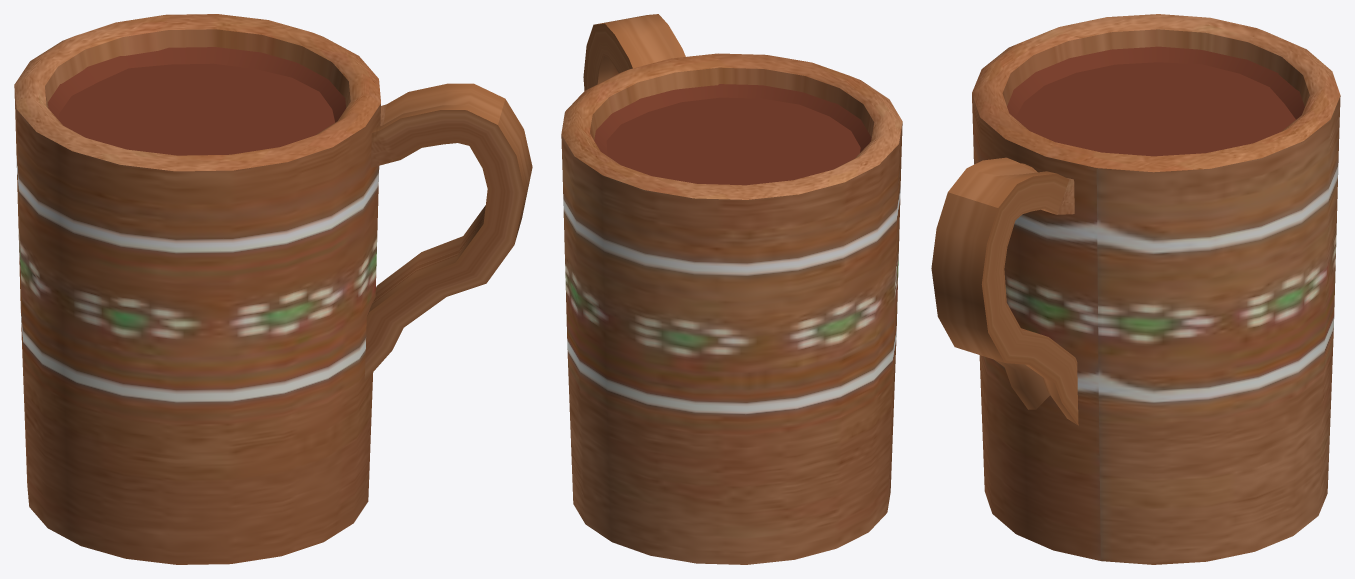
File: chocolate.glb
The picture shows the model from 3 angles, left to right: view 1: azimuth 30°, elevation 25°; view 2: azimuth 150°, elevation 25°; view 3: azimuth 270°, elevation 25°; orthographic projection. The views are drawn at different scales.
Parts seen in each view (by area): view 1: taza_barro_01:chocolate_taza_barro_01:chocolate1_0; view 2: taza_barro_01:chocolate_taza_barro_01:chocolate1_0; view 3: taza_barro_01:chocolate_taza_barro_01:chocolate1_0.
Part boxes in pixels (x1,y1,x2,y2): taza_barro_01:chocolate_taza_barro_01:chocolate1_0: [14, 14, 532, 564]; taza_barro_01:chocolate_taza_barro_01:chocolate1_0: [561, 14, 902, 564]; taza_barro_01:chocolate_taza_barro_01:chocolate1_0: [931, 14, 1340, 564].
Size of the model in its own units: 0.2062 by 0.1982 by 0.1797.
Materials: 2 (1 with a texture image).
